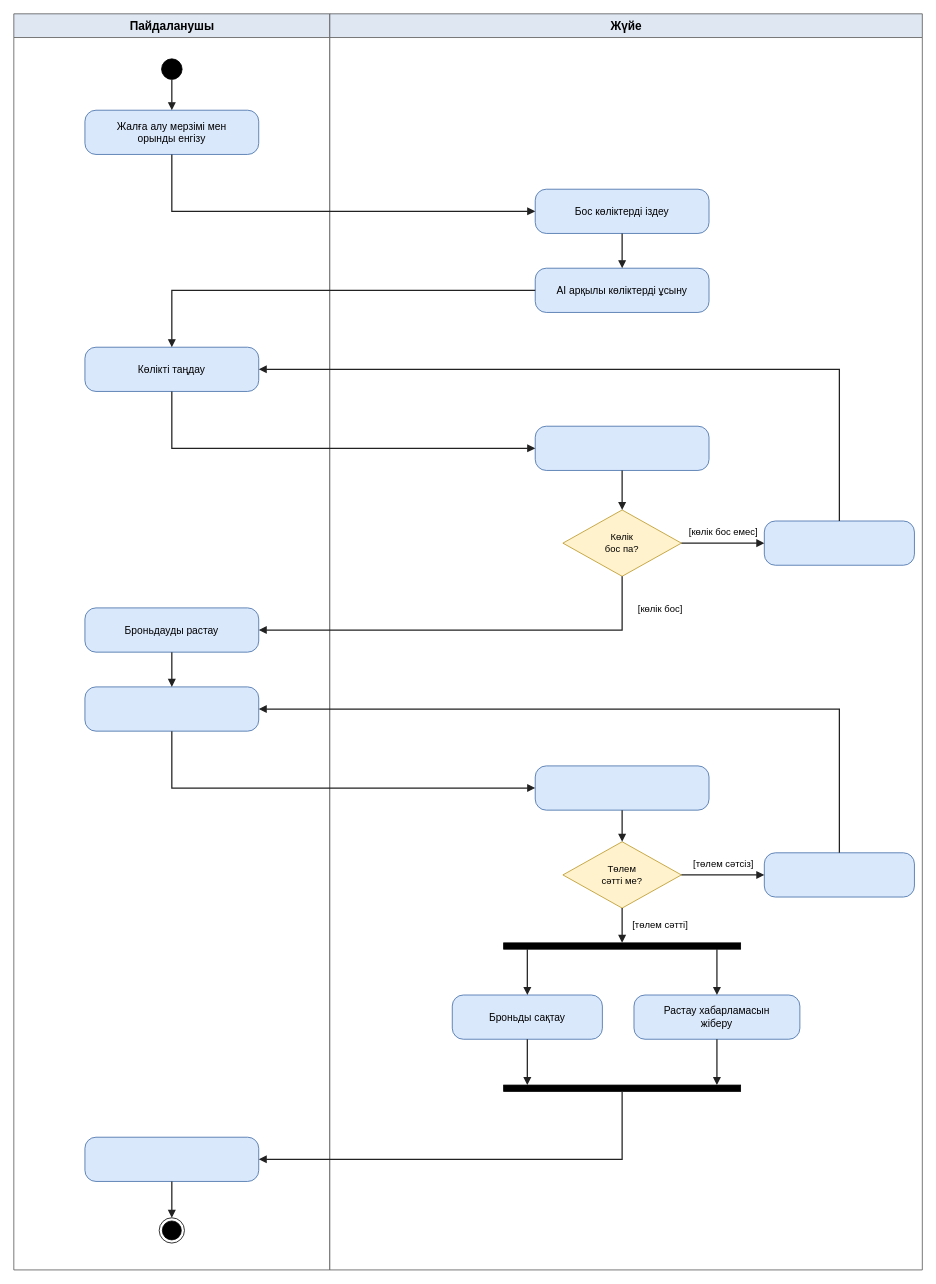
Image size: 936x1284. Some labels were removed from this diagram. Here are the shapes that lost their labels. From the top down, the centre of each, then its label:
At point 621,447: "Көліктің бос екенін тексеру".
At point 839,542: "Көлік бос емес туралы хабарлау".
At point 171,708: "Төлем жасау".
At point 621,787: "Төлемді өңдеу".
At point 839,874: "Төлем қатесі туралы хабарлау".
At point 171,1158: "Броньдау растамасын қарау".
